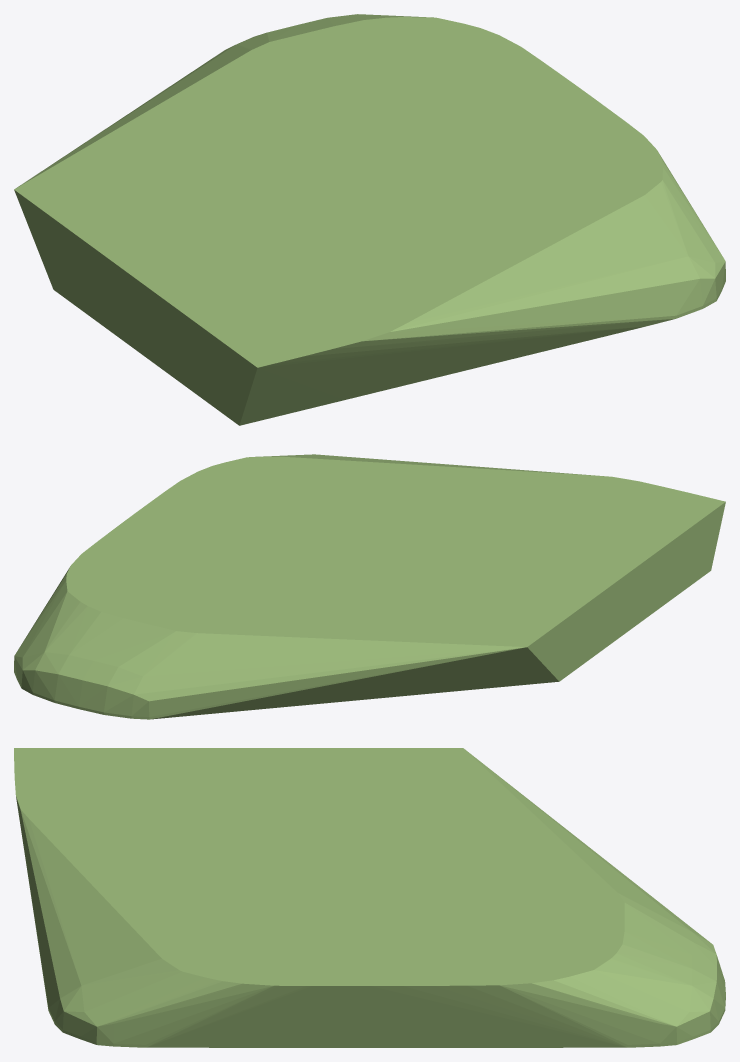
Rendered from arch_peg_convex_coll_004.obj.
3 views of the same model, one above another, from view 1: azimuth 30°, elevation 25°; view 2: azimuth 150°, elevation 25°; view 3: azimuth 270°, elevation 25° (orthographic). The views are drawn at different scales.
Size of the model in its own units: 0.0315 by 0.00407 by 0.0399.
